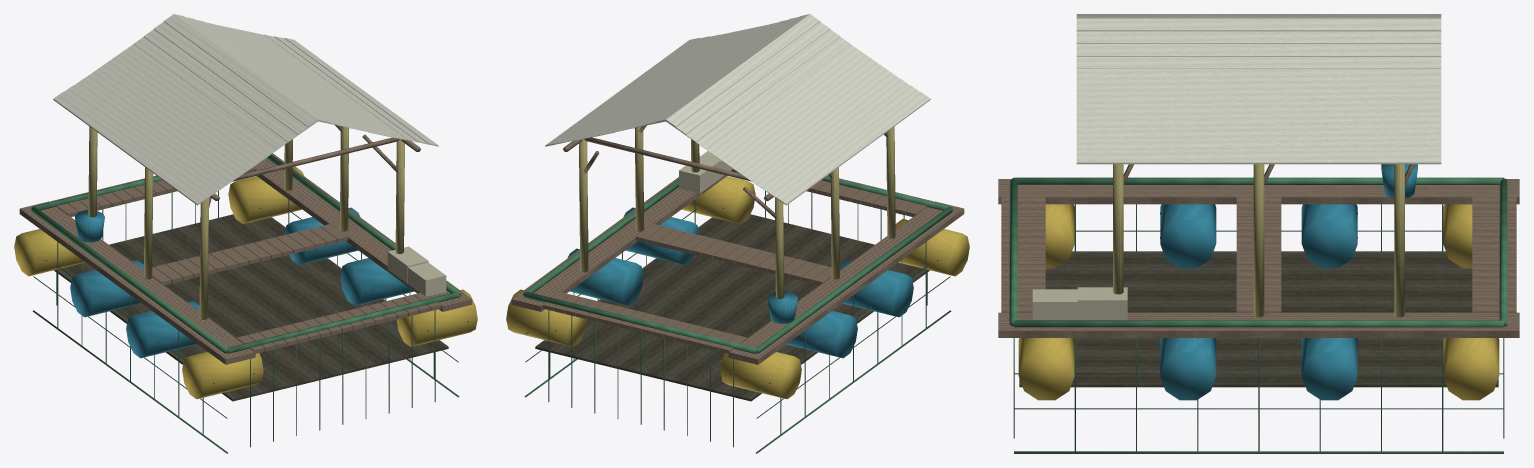
File: bung-raft-0-white.glb
The picture shows the model from 3 angles, left to right: view 1: azimuth 30°, elevation 25°; view 2: azimuth 150°, elevation 25°; view 3: azimuth 270°, elevation 25°; orthographic projection. The views are drawn at different scales.
Visible parts, largest first — view 1: bung-raft-0-white; view 2: bung-raft-0-white; view 3: bung-raft-0-white.
Boxes of the visible parts, <box> form: bung-raft-0-white: <box>14,14,477,453</box>; bung-raft-0-white: <box>506,14,969,453</box>; bung-raft-0-white: <box>998,14,1519,453</box>.
Size of the model in its own units: 4.14 by 4.17 by 5.4.
1 material, 1 textured.
